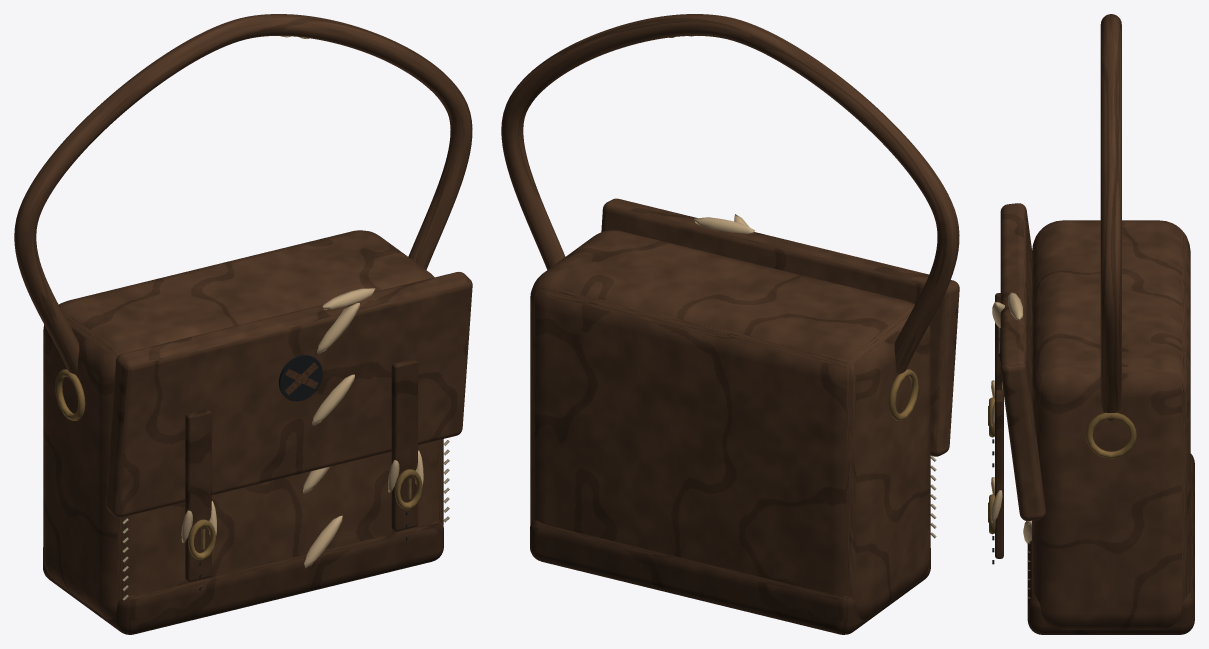
The picture shows the model from 3 angles, left to right: view 1: azimuth 30°, elevation 25°; view 2: azimuth 150°, elevation 25°; view 3: azimuth 270°, elevation 25°; orthographic projection. The views are drawn at different scales.
Visible parts, largest first — view 1: waxed leather, oiled dark leather, thread loop (×2), aged brass fittings, recesses; view 2: waxed leather, oiled dark leather, aged brass fittings, thread loop; view 3: waxed leather, oiled dark leather, aged brass fittings, thread loop (×2).
Part boxes in pixels (x1,y1,x2,y2): waxed leather: (14, 14, 472, 619); oiled dark leather: (43, 359, 443, 634); thread loop (×2): (181, 36, 423, 568); aged brass fittings: (55, 369, 422, 559); recesses: (199, 355, 409, 590); waxed leather: (501, 14, 959, 619); oiled dark leather: (530, 520, 930, 634); aged brass fittings: (888, 369, 918, 420); thread loop: (669, 36, 754, 233); waxed leather: (1000, 14, 1190, 629); oiled dark leather: (995, 293, 1194, 634); aged brass fittings: (988, 397, 1136, 534); thread loop (×2): (990, 292, 1031, 544).
Size of the model in its own units: 0.5732 by 0.6645 by 0.235.
7 materials, 5 textured.
